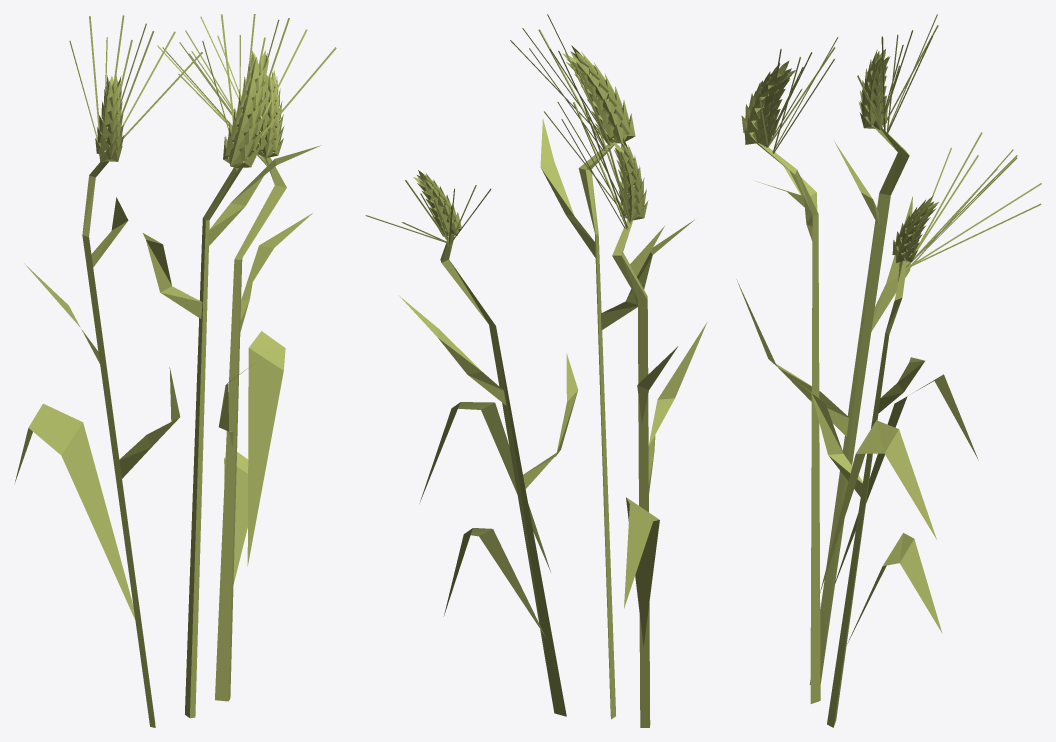
Rendered from Wheat_4.fbx.
The picture shows the model from 3 angles, left to right: view 1: azimuth 30°, elevation 25°; view 2: azimuth 150°, elevation 25°; view 3: azimuth 270°, elevation 25°; orthographic projection. The views are drawn at different scales.
Parts seen in each view (by area): view 1: Wheat_4; view 2: Wheat_4; view 3: Wheat_4.
Part boxes in pixels (box(x1,y1,x2,y2)): Wheat_4: box(14, 14, 336, 727); Wheat_4: box(365, 14, 707, 727); Wheat_4: box(736, 14, 1041, 727).
Bounding box in the file's own units: 43.37 × 98.96 × 39.47.
